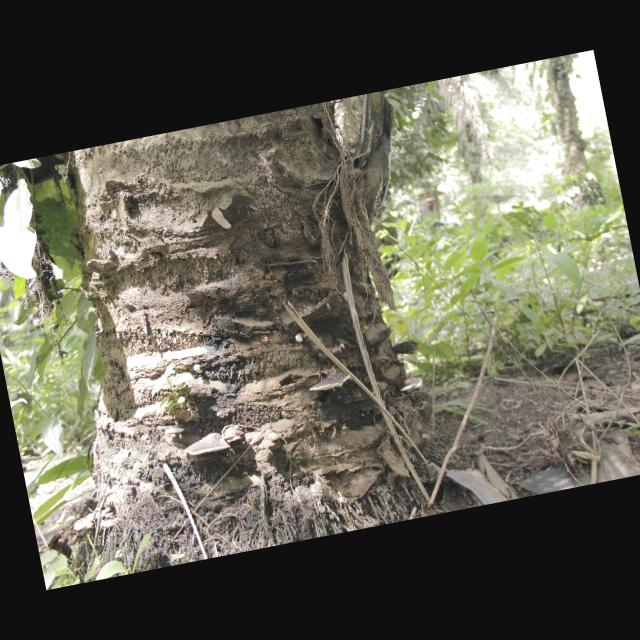ganoderma: (305, 327, 344, 366), (183, 432, 232, 459), (308, 371, 354, 395), (73, 514, 97, 535), (222, 426, 247, 446), (399, 378, 425, 395), (166, 424, 188, 437), (100, 518, 116, 530)
primordium: (122, 477, 135, 488), (194, 364, 205, 376), (296, 334, 306, 344), (344, 293, 351, 304), (341, 343, 347, 351)
